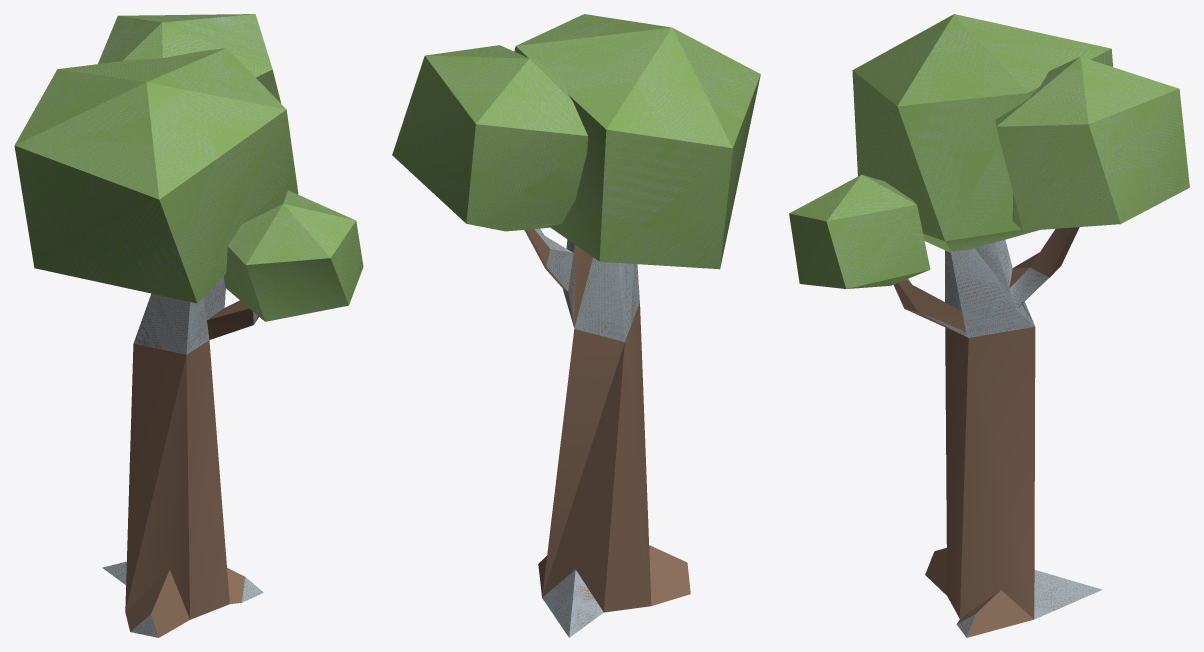
File: Tree_Gum_01.fbx
The picture shows the model from 3 angles, left to right: view 1: azimuth 30°, elevation 25°; view 2: azimuth 150°, elevation 25°; view 3: azimuth 270°, elevation 25°; orthographic projection. The views are drawn at different scales.
Visible parts, largest first — view 1: Model; view 2: Model; view 3: Model.
Part boxes in pixels (box(x1,y1,x2,y2)): Model: box(14, 14, 363, 637); Model: box(392, 14, 760, 637); Model: box(789, 14, 1189, 637).
Bounding box in the file's own units: 325 × 593 × 384.
